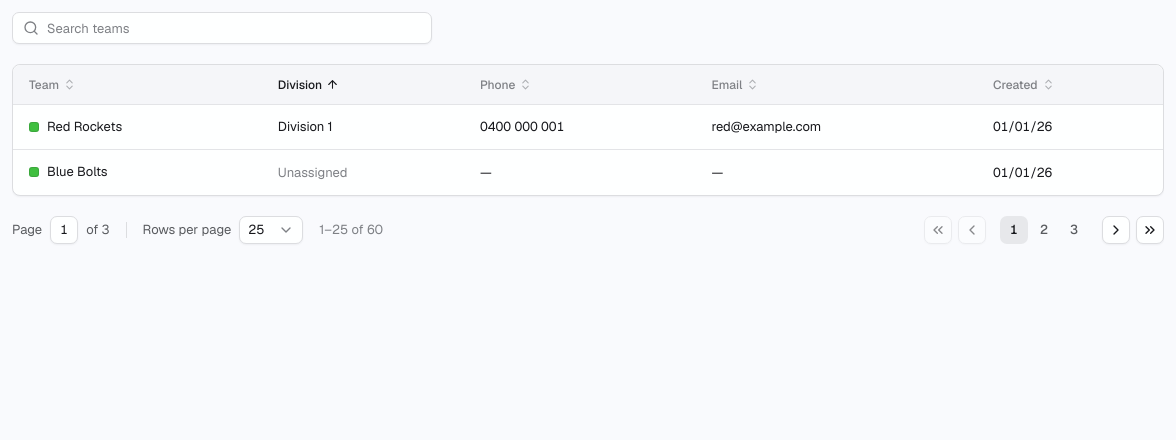
Test: TeamsPage › searches on the server and resets to the first page
The image size is (1176, 440).
Expected: the text "Red Rockets" is shown, [47,117,122,136]
Click the button named "Next page": click(1116, 230) [1102,216,1130,244]
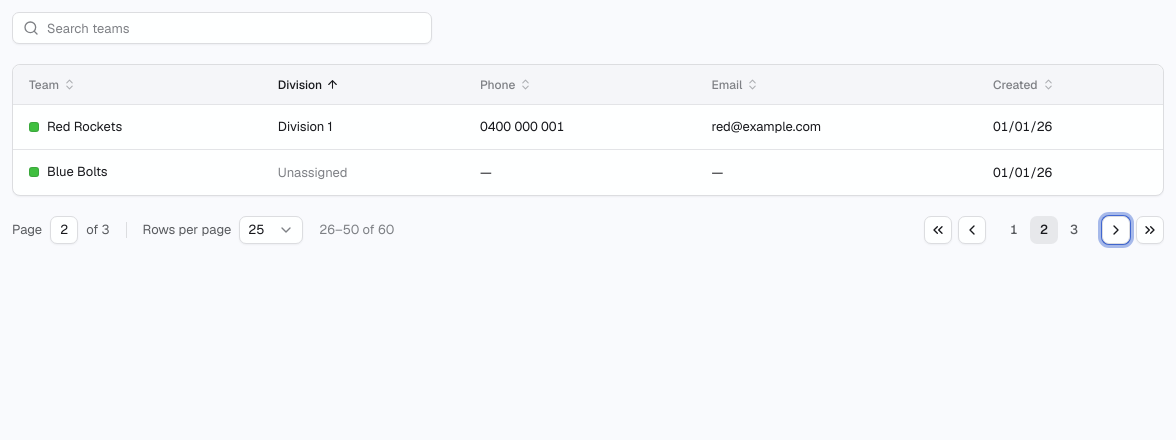
In the search field with placeholder "Search teams": (234, 28) [47,13,421,43], type "zebra"
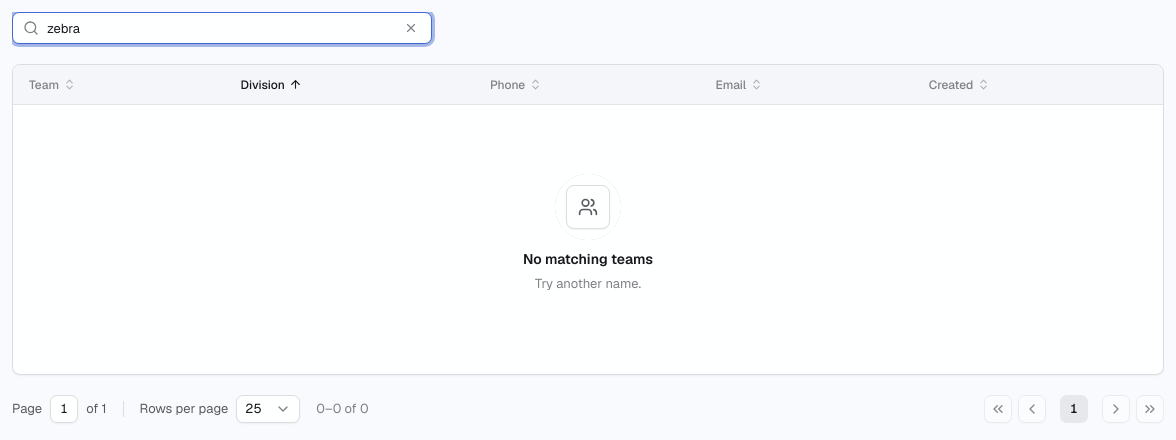
Expected: the text "No matching teams" is shown, [523,249,653,270]
Expected: the text "Try another name." is shown, [535,274,641,294]
